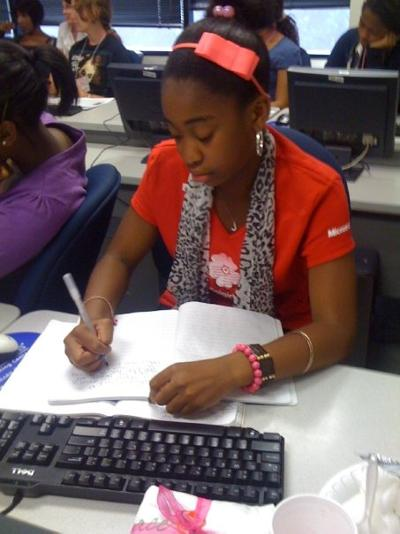person: (64, 21, 358, 419)
